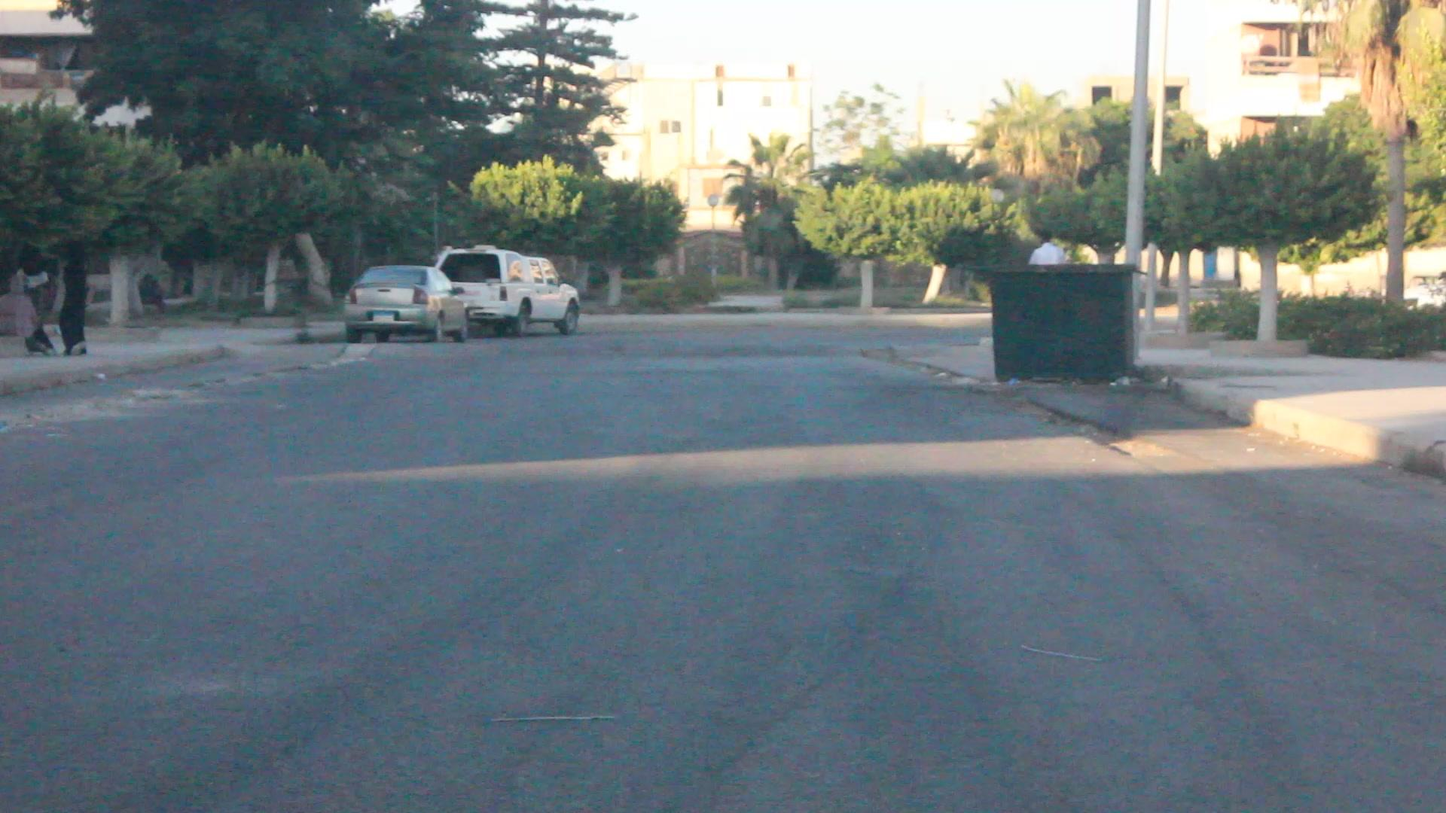Bump: (380, 322, 892, 373)
